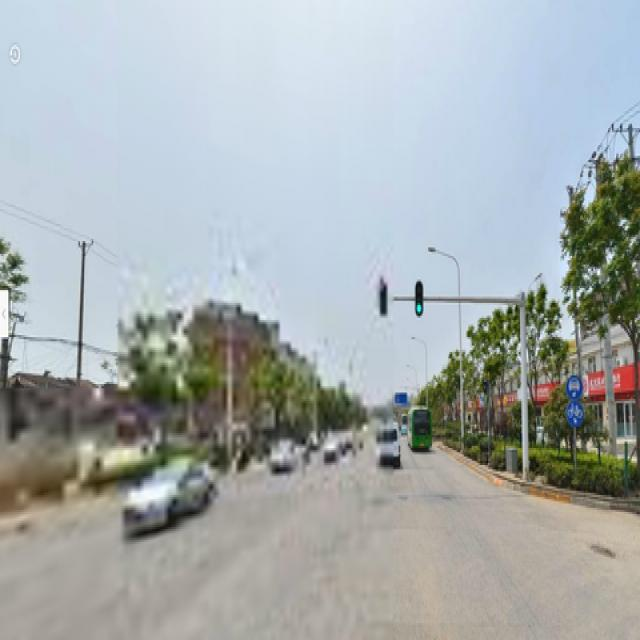koel: (585, 192, 636, 384), (532, 299, 559, 401), (471, 312, 492, 403), (437, 367, 452, 420)
